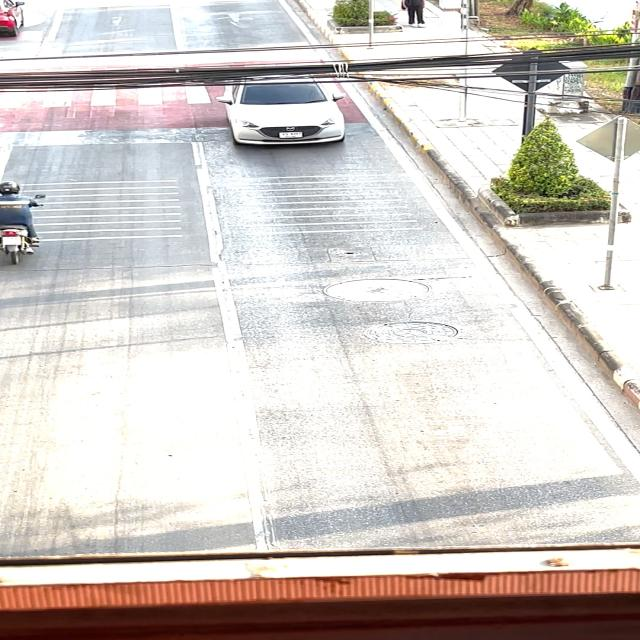car: (203, 68, 383, 158)
